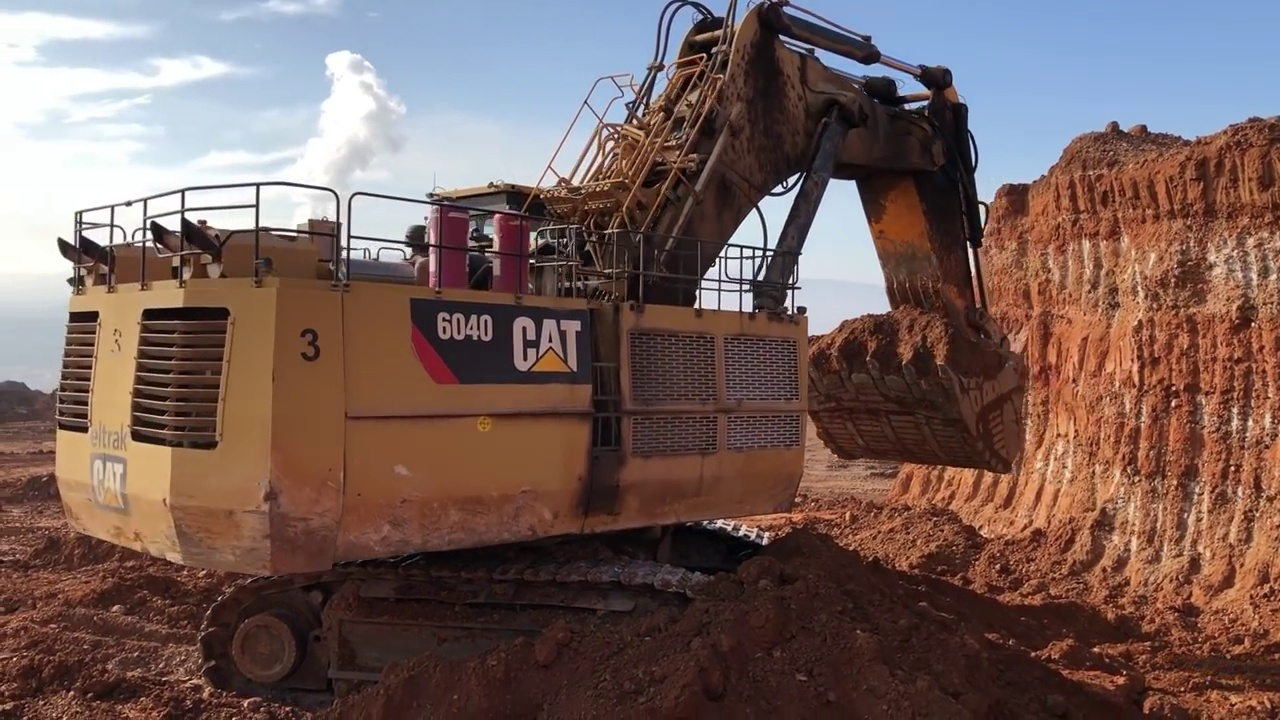excavator: (54, 1, 1028, 717)
